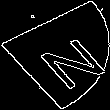N_NW: (12, 23, 98, 87)
